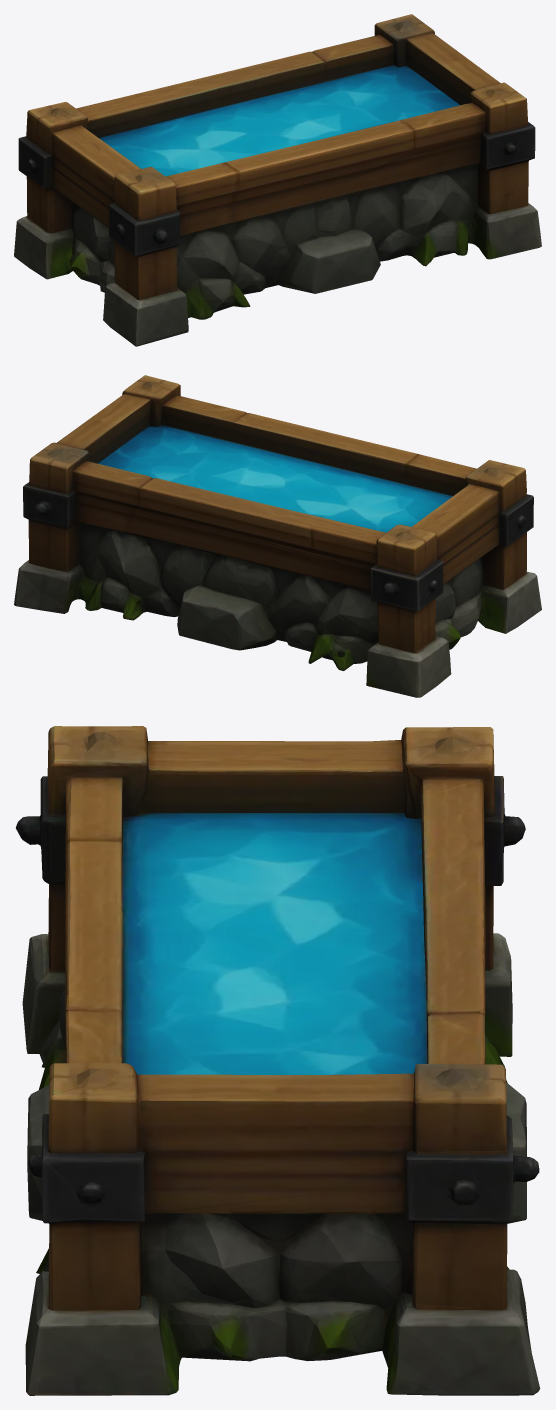
The model's file is water_trough.glb.
3 renders of one model, top to bottom at view 1: azimuth 30°, elevation 25°; view 2: azimuth 150°, elevation 25°; view 3: azimuth 270°, elevation 25°, orthographic. The views are drawn at different scales.
Parts seen in each view (by area): view 1: world; view 2: world; view 3: world.
Boxes of the visible parts, box(x1,y1,x2,y2) form: world: box(14, 14, 541, 346); world: box(14, 375, 541, 697); world: box(16, 726, 540, 1395).
Size of the model in its own units: 0.9989 by 0.3544 by 0.5652.
1 material, 1 textured.
